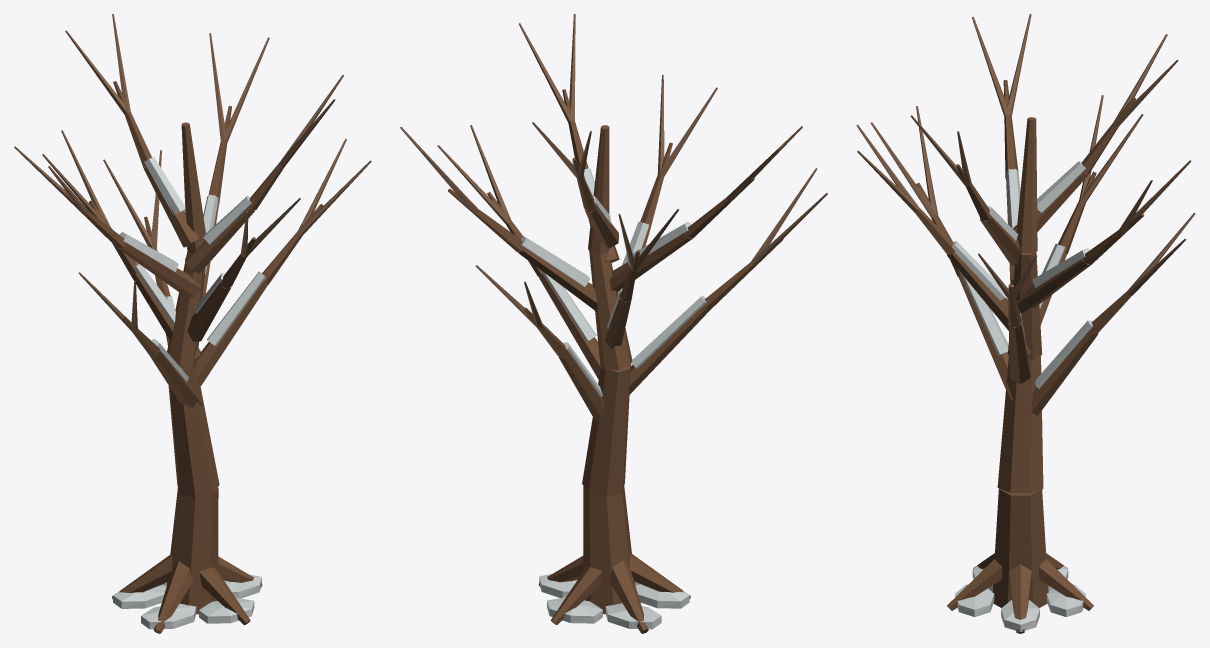
File: tree_fat_winter.glb
3 renders of one model, left to right at view 1: azimuth 30°, elevation 25°; view 2: azimuth 150°, elevation 25°; view 3: azimuth 270°, elevation 25°, orthographic.
Parts seen in each view (by area): view 1: branches, snow; view 2: branches, snow; view 3: branches, snow.
Boxes of the visible parts, x1=… form: branches: x1=14, y1=14, x2=371, y2=633; snow: x1=113, y1=157, x2=266, y2=629; branches: x1=400, y1=14, x2=827, y2=633; snow: x1=521, y1=168, x2=706, y2=629; branches: x1=856, y1=14, x2=1195, y2=633; snow: x1=952, y1=161, x2=1092, y2=631.
Size of the model in its own units: 0.755 by 1.15 by 0.6538.
